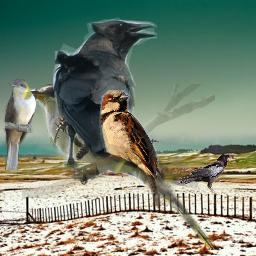Crow: (53, 15, 157, 181), (177, 152, 241, 195)
Cuckoo: (22, 84, 215, 250), (3, 79, 36, 170)
Swallow: (99, 90, 161, 209)
